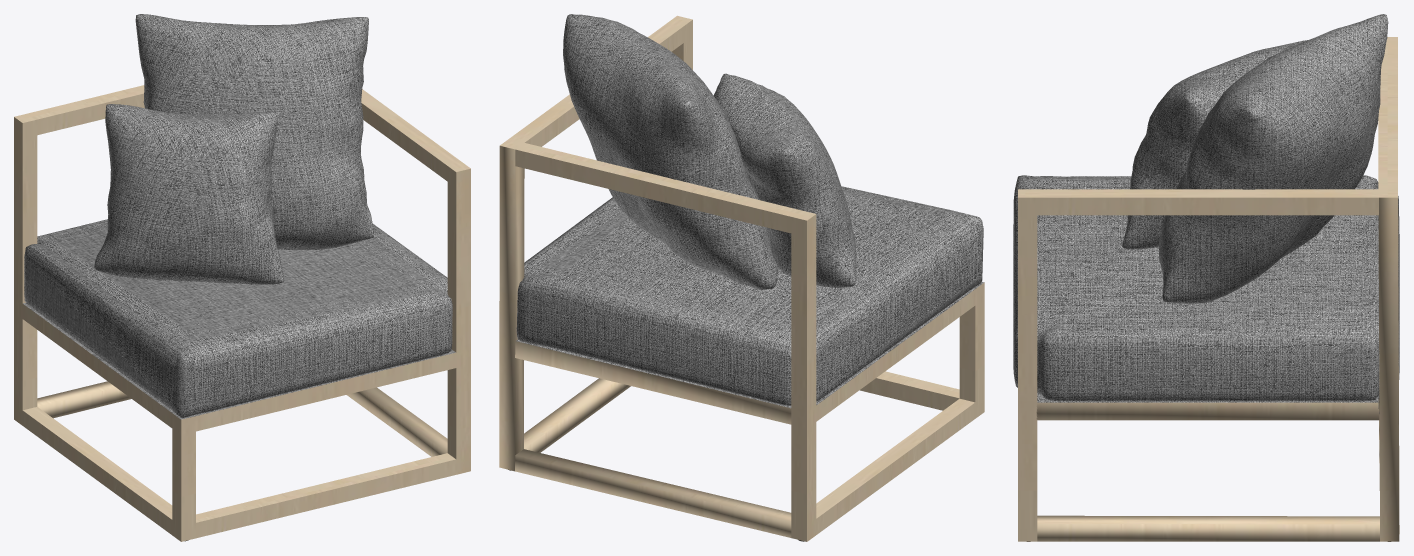
3 views of the same model, side by side, from view 1: azimuth 30°, elevation 25°; view 2: azimuth 150°, elevation 25°; view 3: azimuth 270°, elevation 25° (orthographic). The views are drawn at different scales.
Visible parts, largest first — view 1: C-skp361; view 2: C-skp361; view 3: C-skp361.
Boxes of the visible parts, x1=… form: C-skp361: x1=14, y1=14, x2=470, y2=541; C-skp361: x1=499, y1=14, x2=984, y2=541; C-skp361: x1=1013, y1=14, x2=1399, y2=541.
Bounding box in the file's own units: 0.6377 × 0.7959 × 0.6402.
3 materials, 2 textured.
